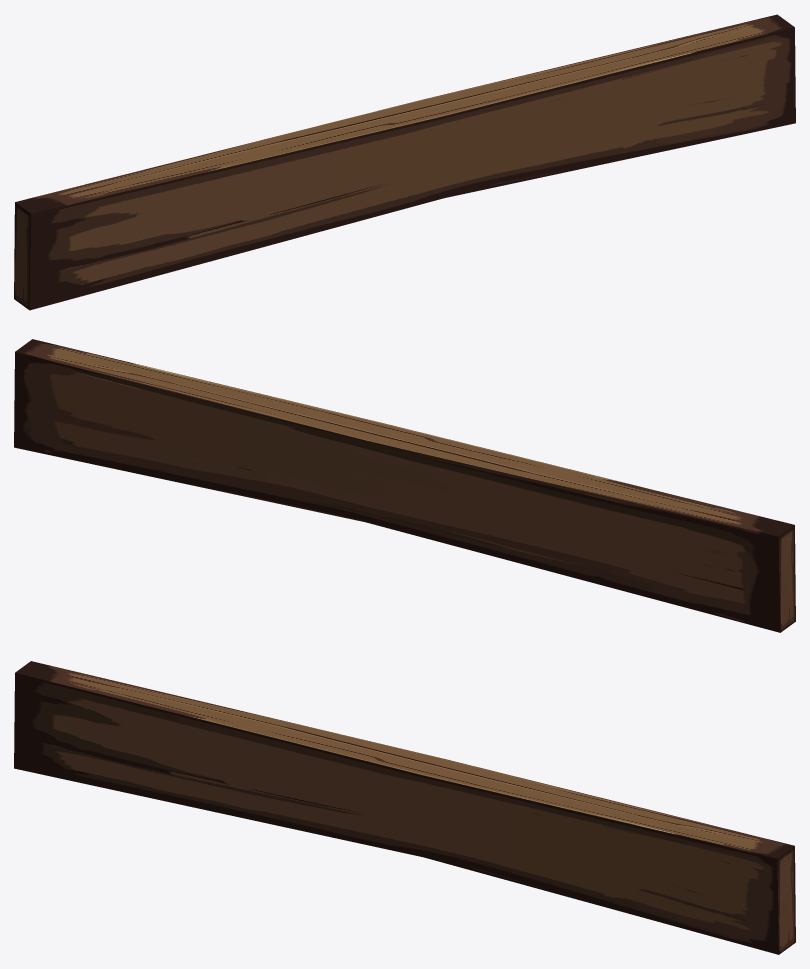
File: SM_PROP_beam_wood_dungeon_05.fbx
3 renders of one model, top to bottom at view 1: azimuth 30°, elevation 25°; view 2: azimuth 150°, elevation 25°; view 3: azimuth 330°, elevation 25°, orthographic.
Parts seen in each view (by area): view 1: SM_PROP_beam_wood_dungeon_05; view 2: SM_PROP_beam_wood_dungeon_05; view 3: SM_PROP_beam_wood_dungeon_05.
Part boxes in pixels (x1,y1,x2,y2): SM_PROP_beam_wood_dungeon_05: [14, 14, 795, 310]; SM_PROP_beam_wood_dungeon_05: [14, 339, 795, 632]; SM_PROP_beam_wood_dungeon_05: [14, 661, 795, 954].
Bounding box in the file's own units: 404 × 48.53 × 20.38.
